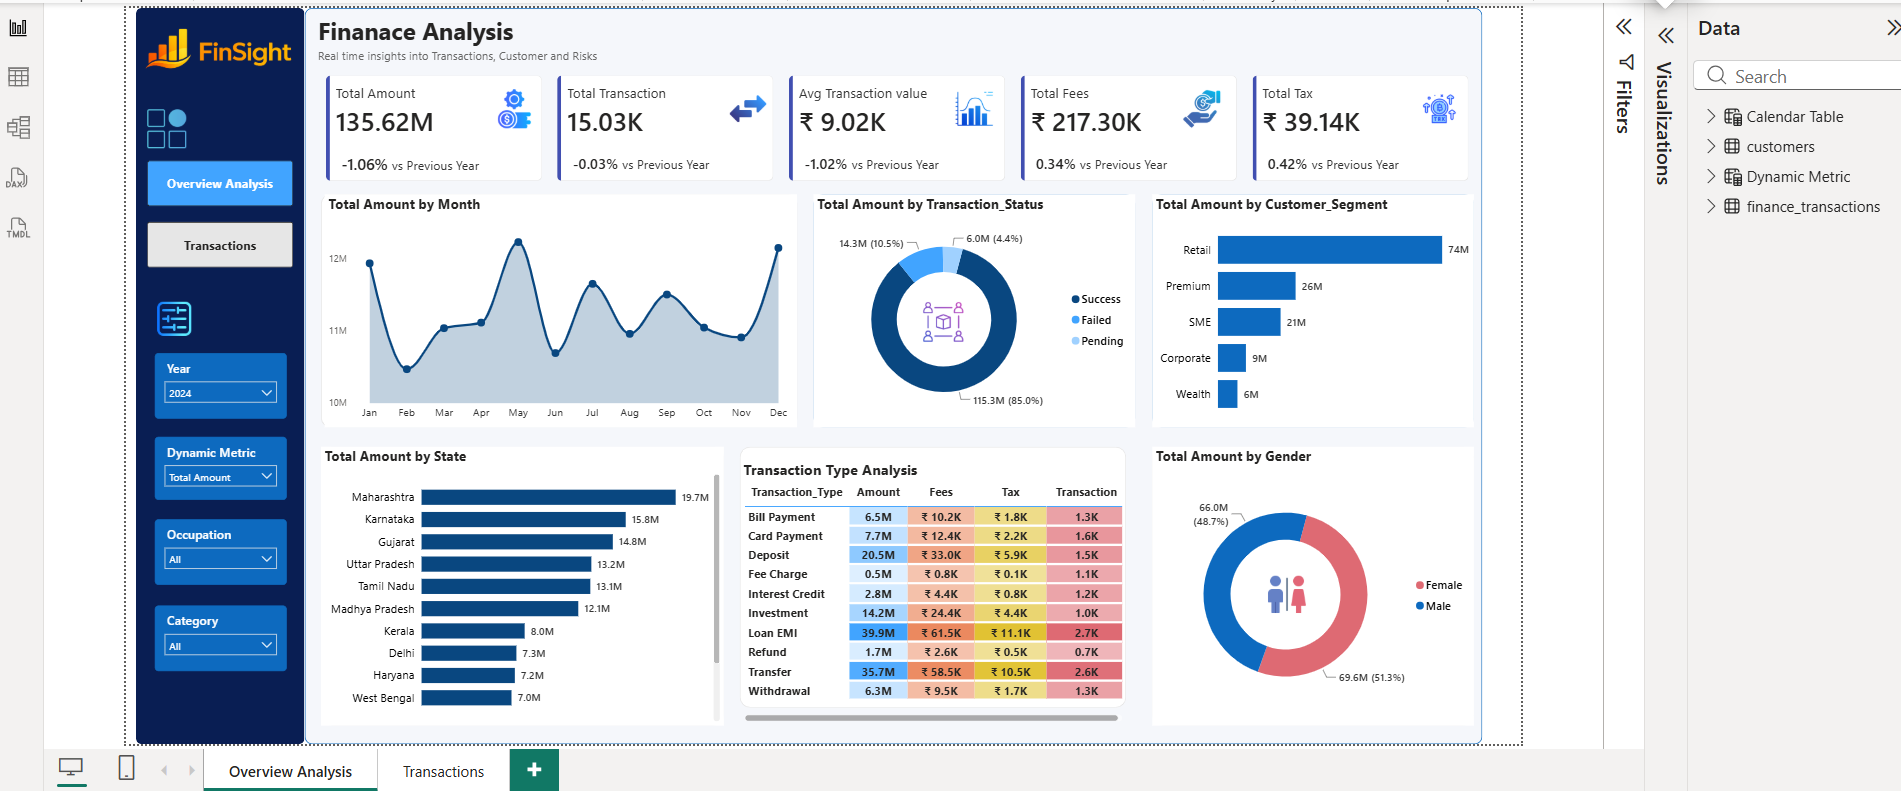

This screenshot's page, from the dashboard's own definition file:
{"tool":"powerbi","page":{"name":"Overview Analysis","canvas":[1800,950],"ordinal":0},"visuals":[{"type":"shape","box":[13.1,0,217.5,950],"z":0},{"type":"shape","box":[230.7,0,1519.9,950.3],"z":1000},{"type":"image","box":[13.1,14.7,217.5,76.9],"z":2000},{"type":"cardVisual","fields":{"Data":["finance_transactions.Dashboard Title"]},"box":[230.6,0,439.9,80.1],"z":3000},{"type":"cardVisual","fields":{"Data":["finance_transactions.Total amount","finance_transactions.Total Transaction","finance_transactions.Avg Total Amount","finance_transactions.TOTAL FEES","finance_transactions.TOTAL TAX"]},"box":[251.8,80.1,1488,148.8],"z":4000},{"type":"slicer","fields":{"Values":["Calendar Table.Year"]},"box":[37.6,444.8,170.1,85],"z":5000},{"type":"image","box":[1069.4,104.7,50.7,50.7],"z":6000},{"type":"image","box":[778.3,104.7,50.7,50.7],"z":7000},{"type":"image","box":[475.8,104.7,50.7,50.7],"z":8000},{"type":"image","box":[1363.7,104.7,50.7,50.7],"z":9000},{"type":"image","box":[1022,376.1,67,55.6],"z":10000},{"type":"image","box":[1669.5,104.7,50.7,50.7],"z":11000},{"type":"image","box":[1030.2,381,50.7,50.7],"z":12000},{"type":"slicer","fields":{"Values":["Dynamic Metric.Dynamic Metric"]},"box":[37.6,552.7,170.1,81.8],"z":13000},{"type":"shape","box":[251.8,240.4,615,300.9],"z":14000},{"type":"areaChart","fields":{"Y":["finance_transactions.Total Transaction"],"Category":["Calendar Table.Month"]},"box":[256.7,240.4,609.9,300.9],"z":15000},{"type":"shape","box":[887.9,240.4,415.3,300.9],"z":16000},{"type":"donutChart","fields":{"Y":["finance_transactions.Total Transaction"],"Category":["finance_transactions.transaction_status"]},"box":[887.9,240.4,415.3,300.9],"z":17000},{"type":"shape","box":[1324.5,240.4,415.3,300.9],"z":18000},{"type":"barChart","fields":{"Y":["finance_transactions.Total Transaction"],"Category":["customers.customer_segment"]},"box":[1324.5,240.4,415.3,300.9],"z":19000},{"type":"shape","box":[251.8,565.8,520,359.7],"z":20000},{"type":"barChart","fields":{"Y":["finance_transactions.Total Transaction"],"Category":["customers.state"]},"box":[251.8,565.8,520,359.7],"z":21000},{"type":"shape","box":[791.4,565.8,498.7,336.8],"z":22000},{"type":"tableEx","title":"Transaction Type Analysis","fields":{"Values":["finance_transactions.transaction_type","finance_transactions.Total Amount","finance_transactions.Total Fees","finance_transactions.Total Tax","finance_transactions.Total Transaction"]},"box":[791.4,582.1,498.7,343.4],"z":23000},{"type":"shape","box":[1324.5,565.8,415.3,359.7],"z":24000},{"type":"donutChart","fields":{"Y":["finance_transactions.Total Transaction"],"Category":["customers.gender"]},"box":[1324.5,565.8,415.3,359.7],"z":25000},{"type":"image","box":[1022,377.7,67,55.6],"z":26000},{"type":"image","box":[1465.1,729.3,67,55.6],"z":27000},{"type":"slicer","fields":{"Values":["customers.occupation"]},"box":[37.6,660.6,170.1,85],"z":28000},{"type":"slicer","fields":{"Values":["finance_transactions.merchant_category"]},"box":[37.6,771.8,170.1,85],"z":29000},{"type":"pageNavigator","box":[27.8,196.2,188,139],"z":30000},{"type":"image","box":[27.8,130.8,50.7,50.7],"z":31000},{"type":"image","box":[37.6,376.1,50.7,50.7],"z":32000}]}

Visuals, with their boxes on the page's 1800x950 design canvas (x1, y1, x2, y2). These are canvas units, not pixel positions in the 1901x791 screenshot, which may show the page scaled, cropped or inside an application window:
shape: bbox=(13, 0, 231, 950)
shape: bbox=(231, 0, 1751, 950)
image: bbox=(13, 15, 231, 92)
cardVisual - finance_transactions.Dashboard Title: bbox=(231, 0, 670, 80)
cardVisual - finance_transactions.Total amount x finance_transactions.Total Transaction: bbox=(252, 80, 1740, 229)
slicer - Calendar Table.Year: bbox=(38, 445, 208, 530)
image: bbox=(1069, 105, 1120, 155)
image: bbox=(778, 105, 829, 155)
image: bbox=(476, 105, 526, 155)
image: bbox=(1364, 105, 1414, 155)
image: bbox=(1022, 376, 1089, 432)
image: bbox=(1670, 105, 1720, 155)
image: bbox=(1030, 381, 1081, 432)
slicer - Dynamic Metric.Dynamic Metric: bbox=(38, 553, 208, 634)
shape: bbox=(252, 240, 867, 541)
areaChart - finance_transactions.Total Transaction x Calendar Table.Month: bbox=(257, 240, 867, 541)
shape: bbox=(888, 240, 1303, 541)
donutChart - finance_transactions.Total Transaction x finance_transactions.transaction_status: bbox=(888, 240, 1303, 541)
shape: bbox=(1324, 240, 1740, 541)
barChart - finance_transactions.Total Transaction x customers.customer_segment: bbox=(1324, 240, 1740, 541)
shape: bbox=(252, 566, 772, 926)
barChart - finance_transactions.Total Transaction x customers.state: bbox=(252, 566, 772, 926)
shape: bbox=(791, 566, 1290, 903)
"Transaction Type Analysis" tableEx: bbox=(791, 582, 1290, 926)
shape: bbox=(1324, 566, 1740, 926)
donutChart - finance_transactions.Total Transaction x customers.gender: bbox=(1324, 566, 1740, 926)
image: bbox=(1022, 378, 1089, 433)
image: bbox=(1465, 729, 1532, 785)
slicer - customers.occupation: bbox=(38, 661, 208, 746)
slicer - finance_transactions.merchant_category: bbox=(38, 772, 208, 857)
pageNavigator: bbox=(28, 196, 216, 335)
image: bbox=(28, 131, 78, 182)
image: bbox=(38, 376, 88, 427)
